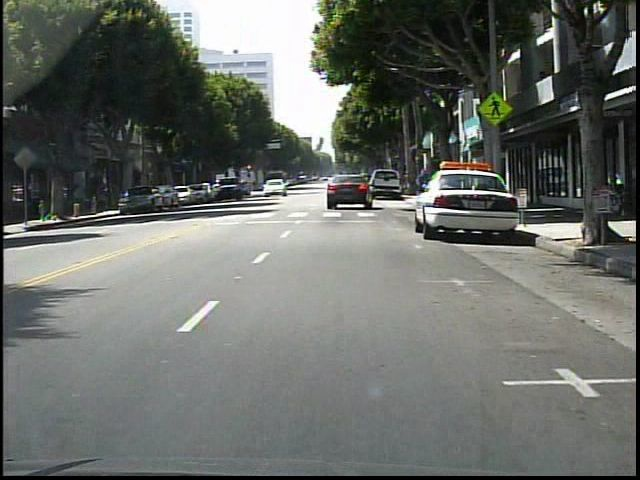person: (413, 165, 434, 205)
